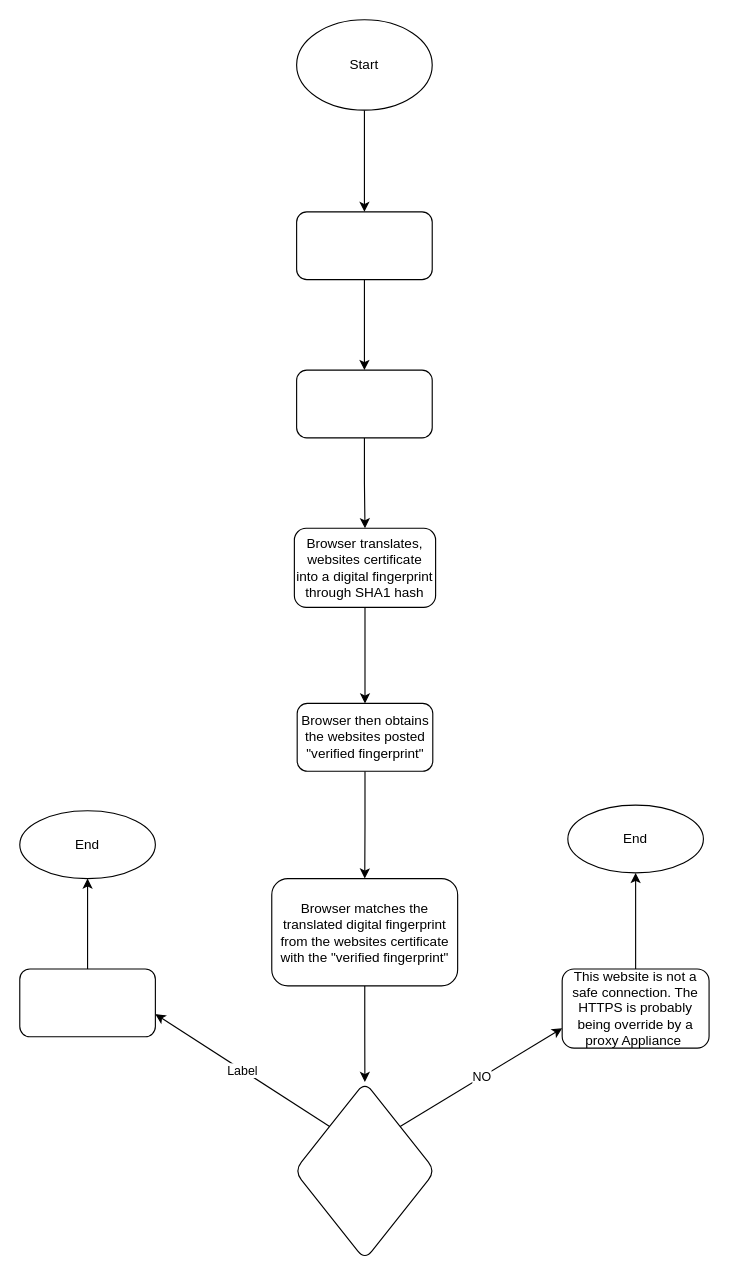
The diagram is 729 pixels wide and 1280 high, and some of its shapes have lost their labels. Here are the shapes that lost their labels. From the top down, the centre of each, then its label:
At (x=363, y=245): "Browsers connects to a website".
At (x=363, y=403): "Browser obtains website's certificate".
At (x=87, y=1002): "The website is a safe connection!".
At (x=364, y=1170): "Do the fingerprints match?".
